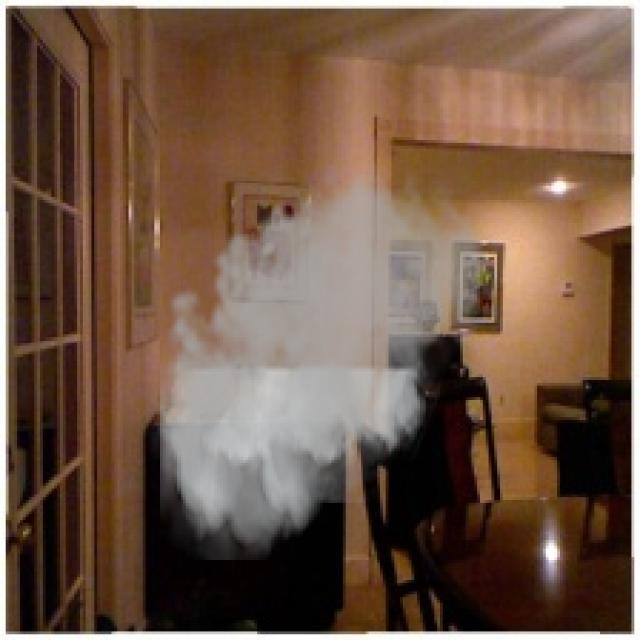smoke: (146, 154, 491, 560)
